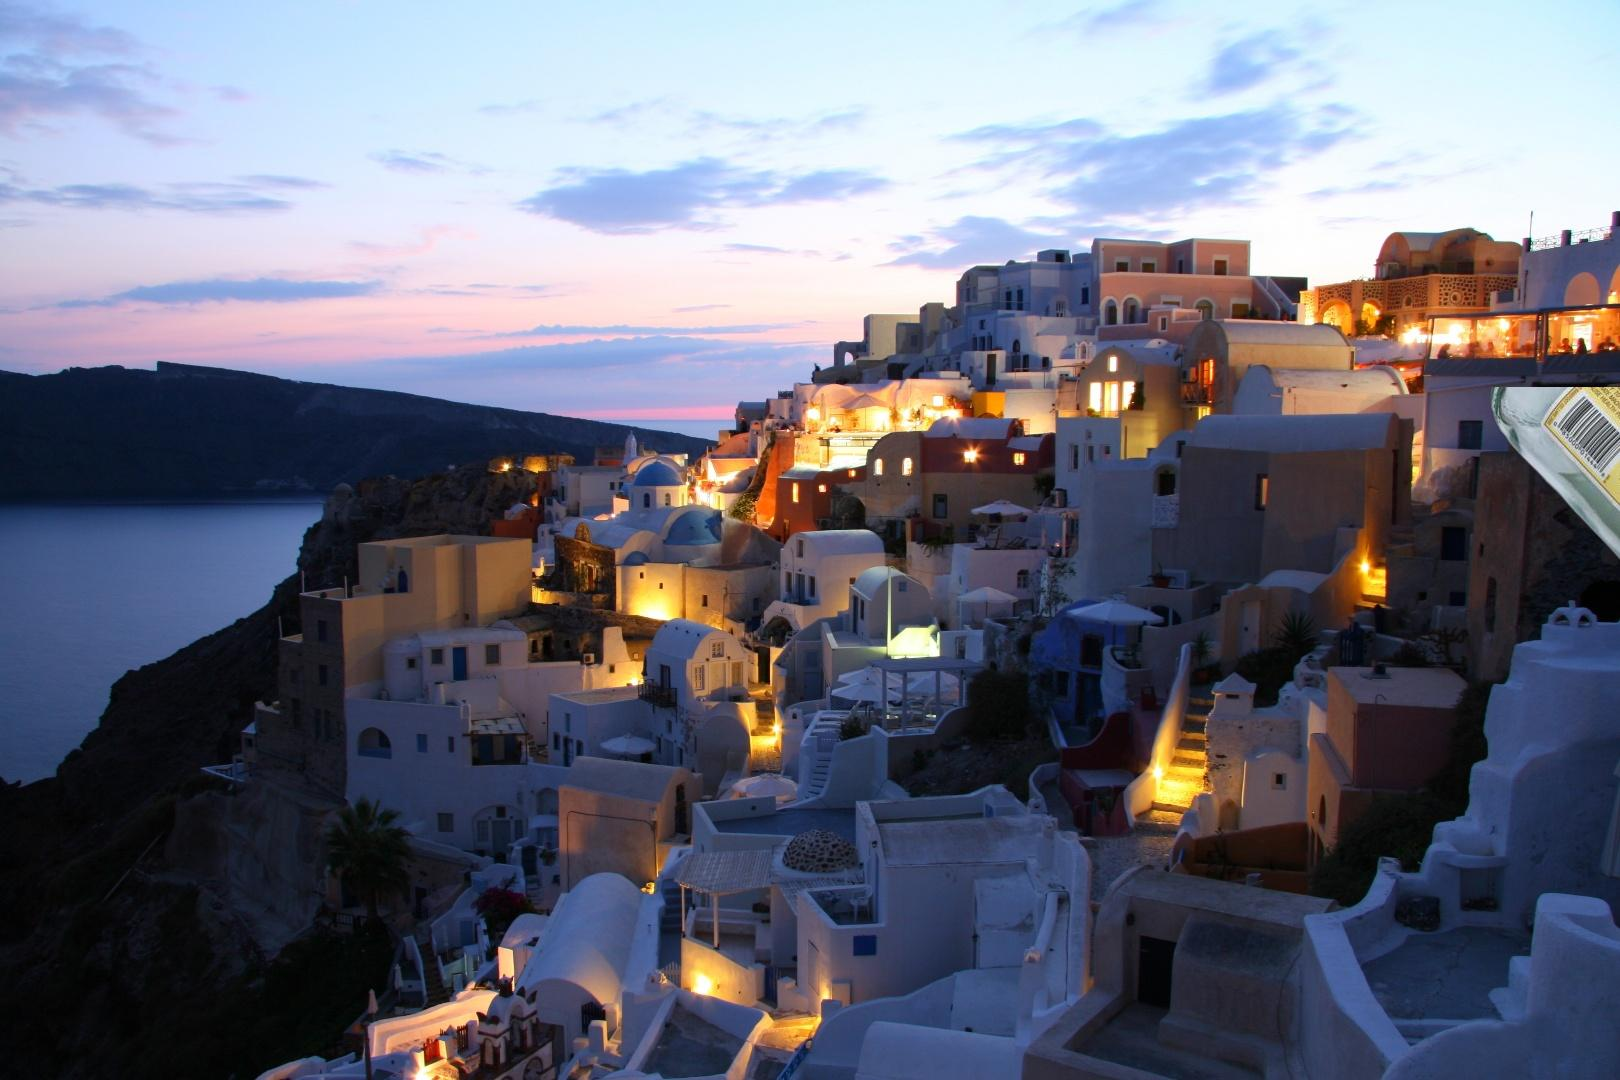glass: (1475, 387, 1620, 771)
